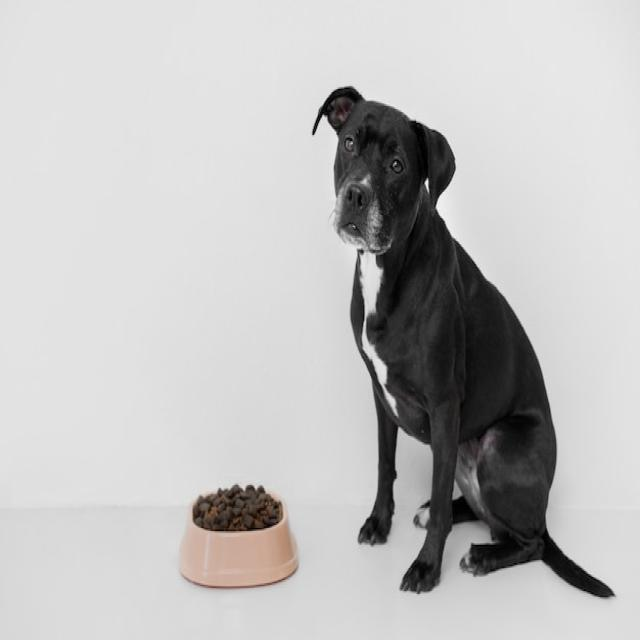Dog: (313, 89, 615, 600)
